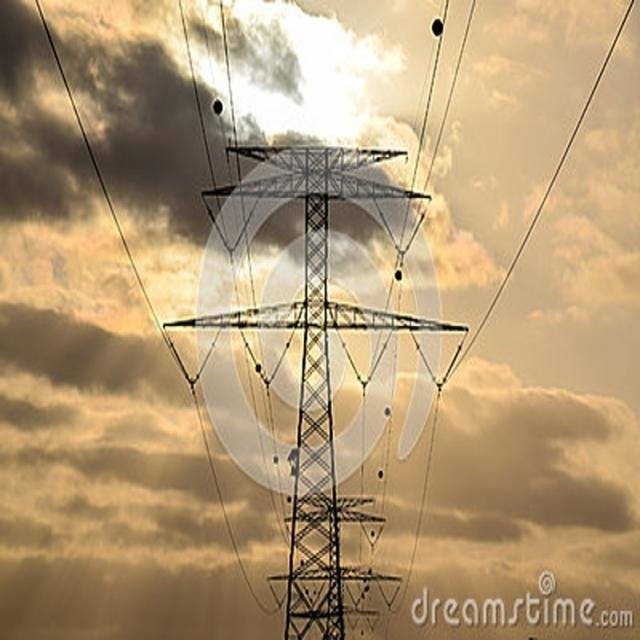non-critical vegetation: (178, 115, 424, 632)
